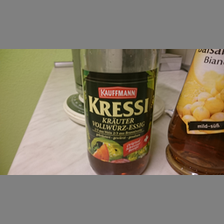vinegar: (79, 49, 159, 177)
